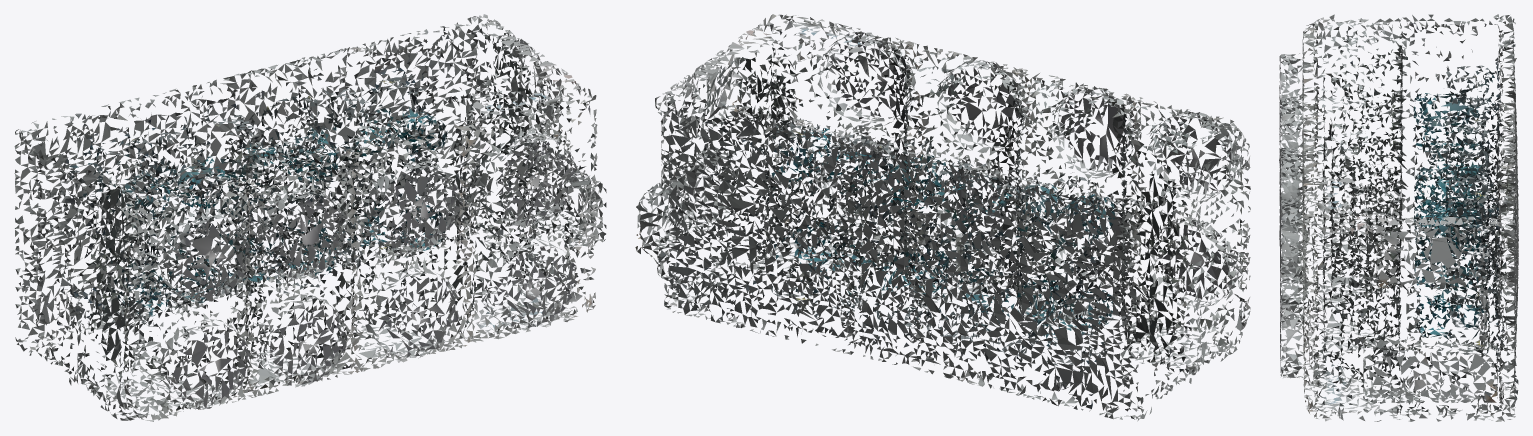
Rendered from test_texture.glb.
3 renders of one model, left to right at view 1: azimuth 30°, elevation 25°; view 2: azimuth 150°, elevation 25°; view 3: azimuth 270°, elevation 25°, orthographic. The views are drawn at different scales.
Visible parts, largest first — view 1: world; view 2: world; view 3: world.
Boxes of the visible parts, x1,y1,x2,y2 form: world: (14, 14, 606, 421); world: (635, 14, 1250, 421); world: (1279, 14, 1518, 421).
Bounding box in the file's own units: 0.9936 × 0.4081 × 0.4447.
